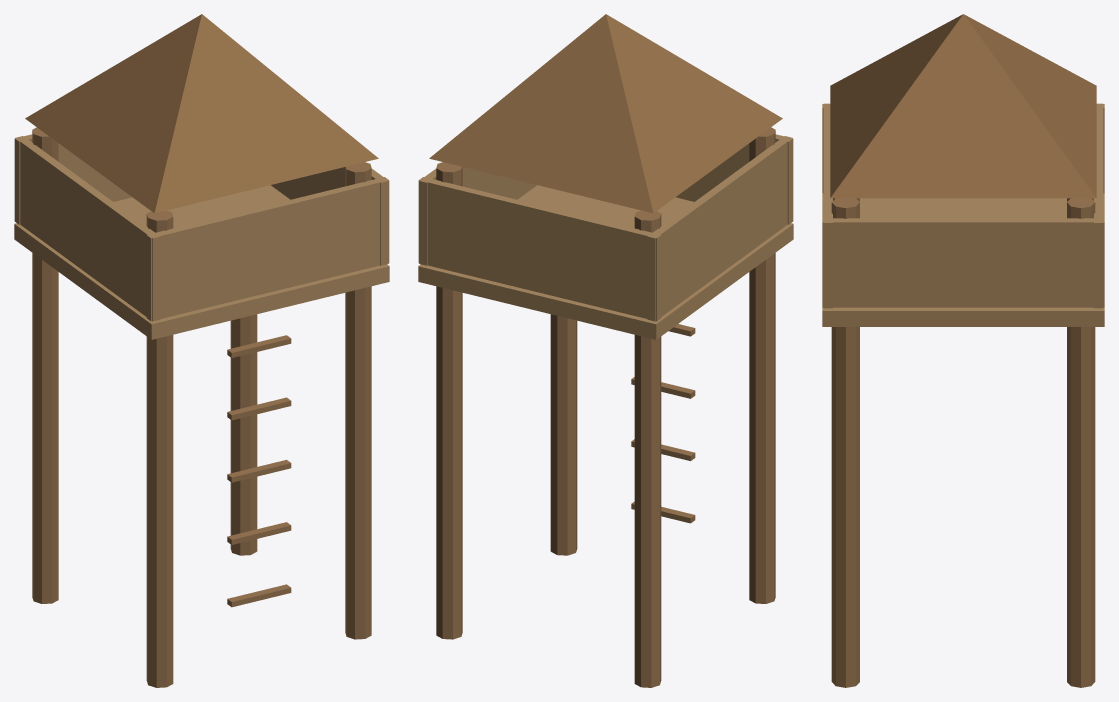
File: watchtower.glb
3 views of the same model, side by side, from view 1: azimuth 30°, elevation 25°; view 2: azimuth 150°, elevation 25°; view 3: azimuth 270°, elevation 25° (orthographic). The views are drawn at different scales.
Parts seen in each view (by area): view 1: TowerRoof, Cube.001, Cube.002, Cylinder, PlatformFloor, Cylinder.001, Cylinder.002, Cylinder.003, Cube.003, Cube, Cube.006, Cube.004 (+3 smaller); view 2: TowerRoof, Cube, Cube.002, Cylinder.002, PlatformFloor, Cylinder.003, Cylinder, Cylinder.001, Cube.003, Cube.001; view 3: TowerRoof, Cube.003, Cylinder.001, Cylinder.003, PlatformFloor, Cube.001, Cube.
Boxes of the visible parts, x1=… form: TowerRoof: x1=25, y1=14, x2=378, y2=213; Cube.001: x1=146, y1=177, x2=389, y2=321; Cube.002: x1=15, y1=136, x2=160, y2=321; Cylinder: x1=146, y1=210, x2=173, y2=687; PlatformFloor: x1=14, y1=185, x2=389, y2=339; Cylinder.001: x1=345, y1=162, x2=371, y2=639; Cylinder.002: x1=32, y1=127, x2=58, y2=603; Cylinder.003: x1=230, y1=314, x2=257, y2=555; Cube.003: x1=271, y1=167, x2=388, y2=265; Cube: x1=14, y1=134, x2=131, y2=224; Cube.006: x1=227, y1=459, x2=291, y2=482; Cube.004: x1=227, y1=584, x2=291, y2=607; TowerRoof: x1=429, y1=14, x2=782, y2=213; Cube: x1=418, y1=177, x2=661, y2=321; Cube.002: x1=647, y1=136, x2=792, y2=321; Cylinder.002: x1=634, y1=210, x2=661, y2=687; PlatformFloor: x1=418, y1=185, x2=793, y2=339; Cylinder.003: x1=436, y1=162, x2=462, y2=639; Cylinder: x1=749, y1=127, x2=775, y2=603; Cylinder.001: x1=550, y1=314, x2=577, y2=555; Cube.003: x1=419, y1=167, x2=536, y2=265; Cube.001: x1=676, y1=134, x2=793, y2=224; TowerRoof: x1=830, y1=14, x2=1096, y2=198; Cube.003: x1=822, y1=218, x2=1104, y2=307; Cylinder.001: x1=831, y1=198, x2=859, y2=687; Cylinder.003: x1=1067, y1=198, x2=1095, y2=687; PlatformFloor: x1=822, y1=193, x2=1104, y2=326; Cube.001: x1=823, y1=103, x2=832, y2=308; Cube: x1=1094, y1=103, x2=1103, y2=308.
Bounding box in the file's own units: 2.4 × 5.8 × 2.4.
